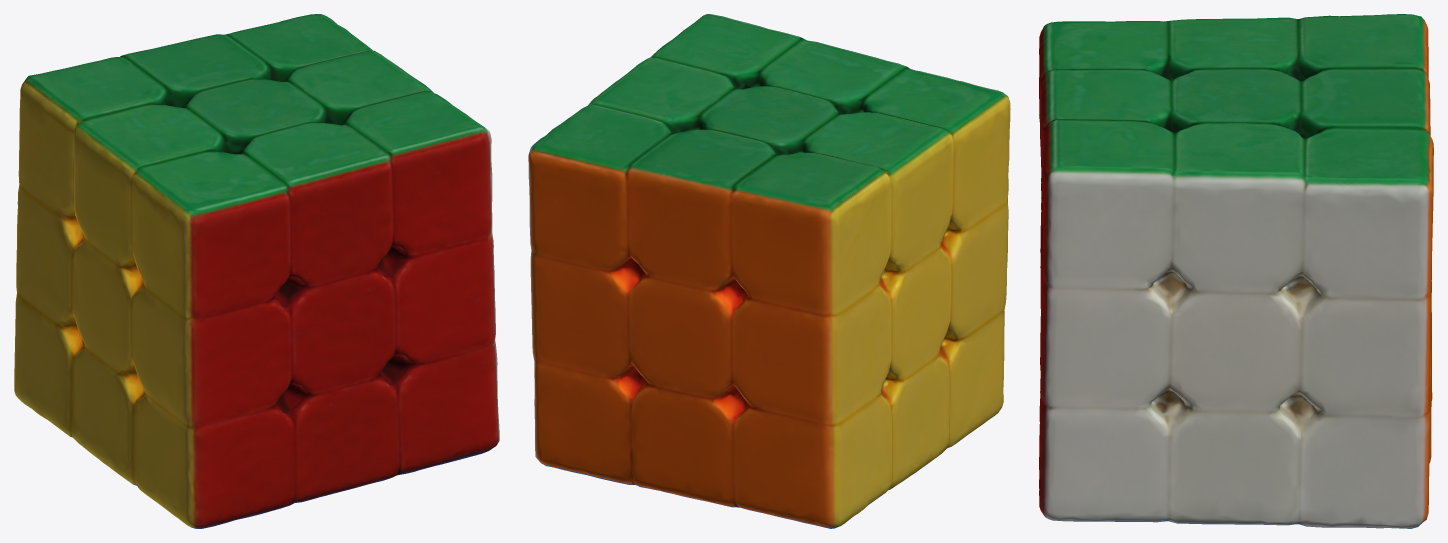
The model's file is rubiks_cube.obj.
The picture shows the model from 3 angles, left to right: view 1: azimuth 30°, elevation 25°; view 2: azimuth 150°, elevation 25°; view 3: azimuth 270°, elevation 25°; orthographic projection. The views are drawn at different scales.
Bounding box in the file's own units: 0.0581 × 0.0588 × 0.0579.
Materials: 1 (1 with a texture image).
